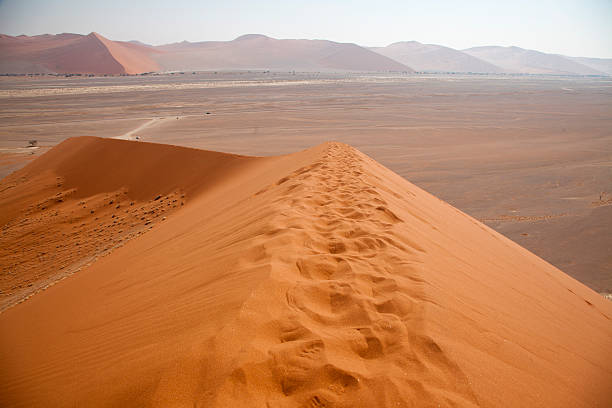human_foot_print: (279, 143, 413, 402)
